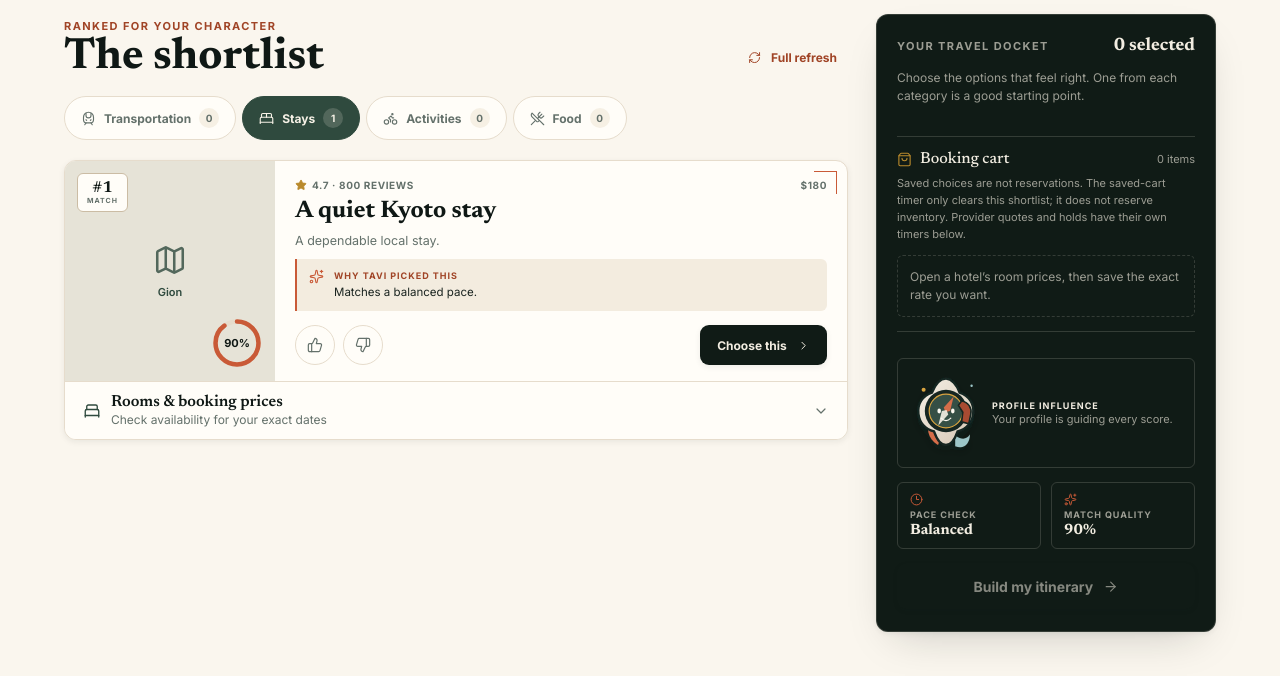
it: selects the matching hotel when its exact room rate is added to the cart
The image size is (1280, 676).
(page scrolled)
Click the button "Rooms & booking prices". click: (197, 402)
box: [65,382,847,439]
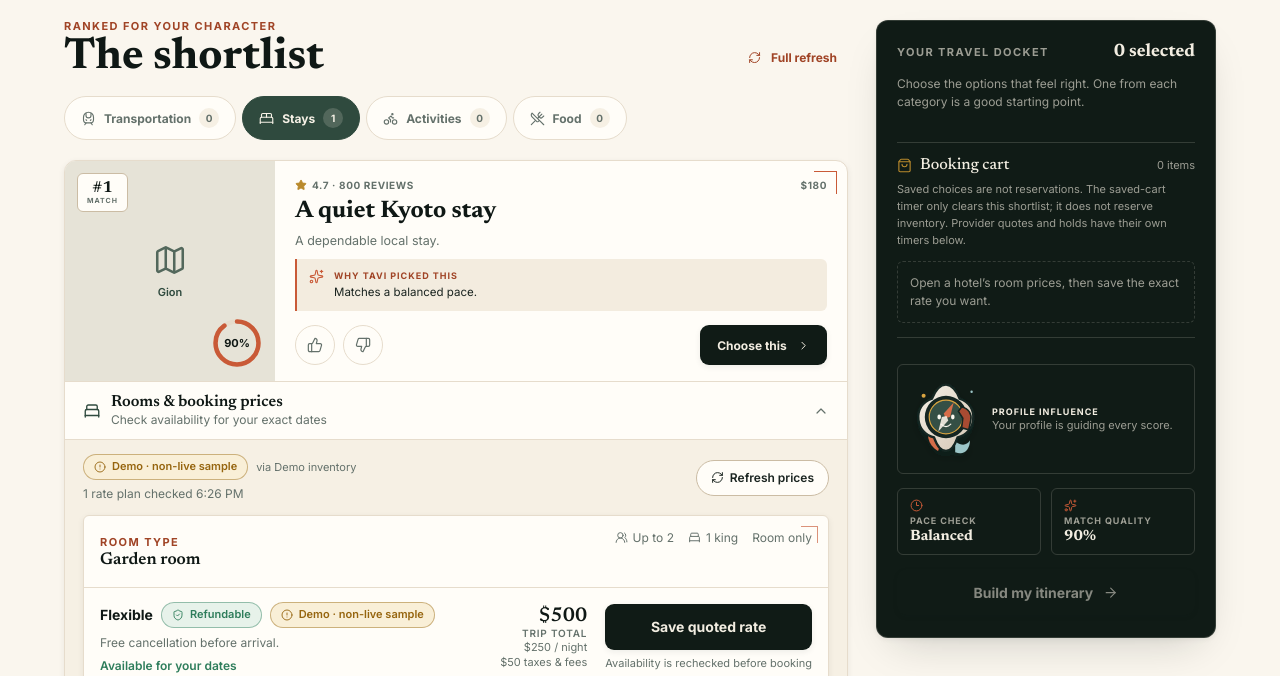
Click the button "Save quoted rate". click: (709, 627)
box: [605,604,812,650]
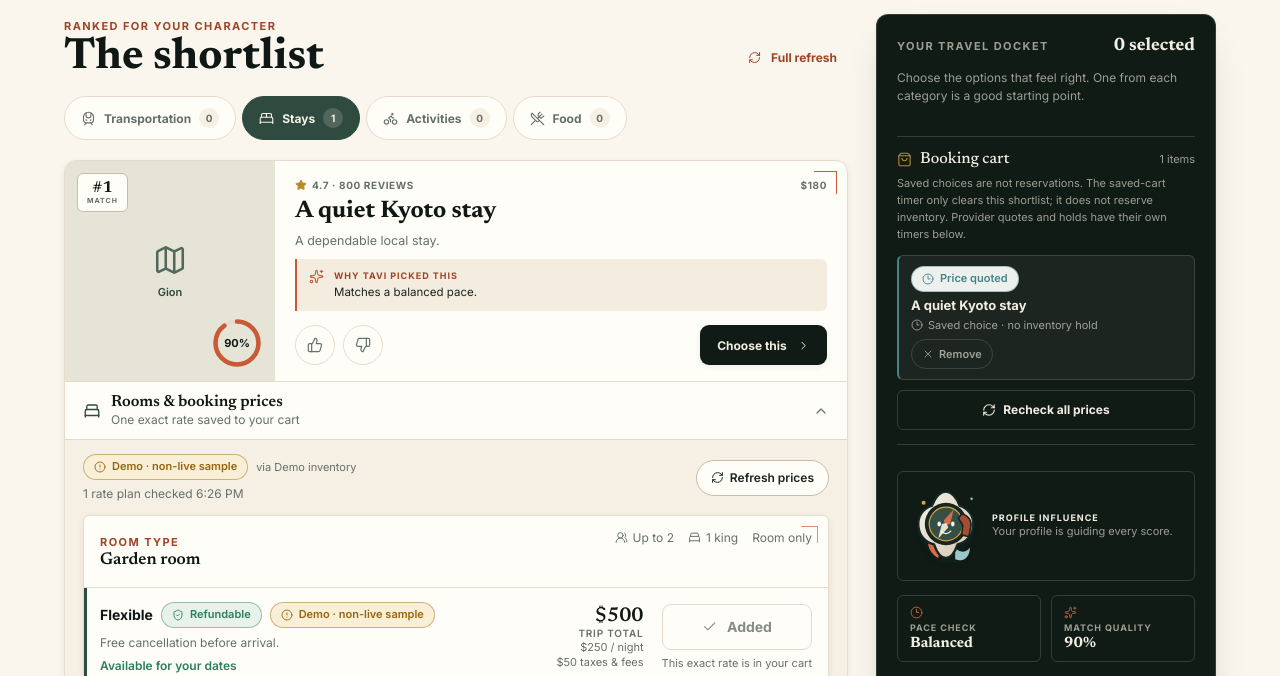
Check: the button "Added" is disabled, box [662,604,812,650]
